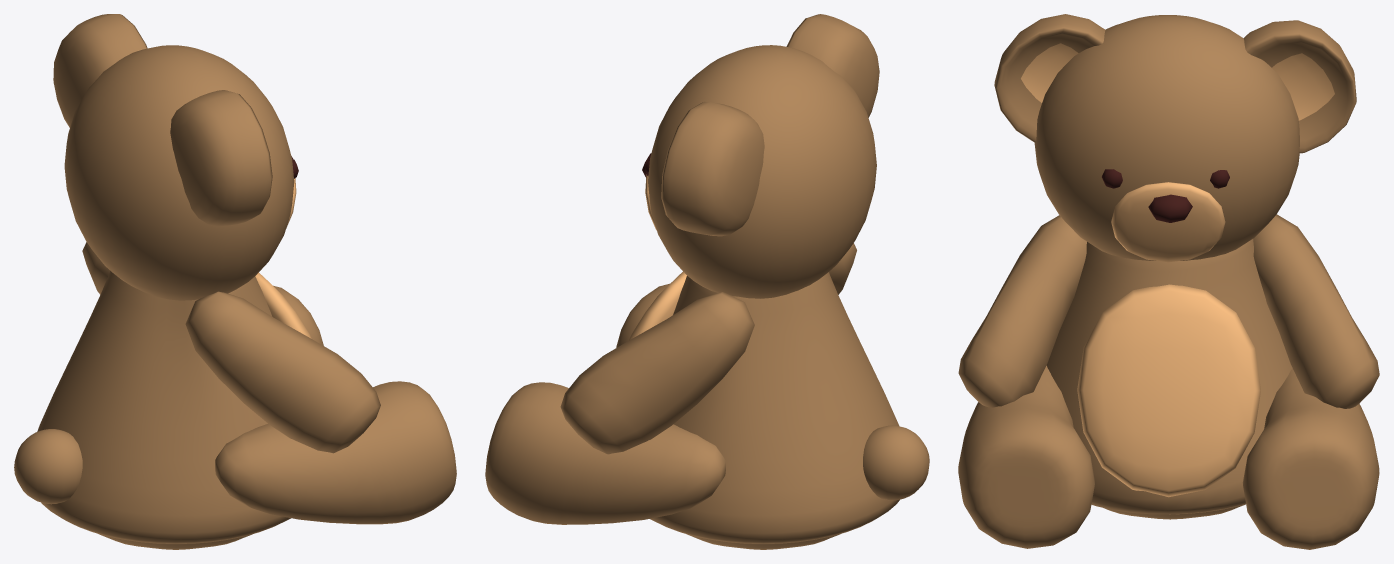
The model's file is teddybear (1).fbx.
3 renders of one model, left to right at view 1: azimuth 30°, elevation 25°; view 2: azimuth 150°, elevation 25°; view 3: azimuth 270°, elevation 25°, orthographic.
Parts seen in each view (by area): view 1: Cylinder.001, Sphere.004, Cube.017, Cube.018, Cube.012, Cube.011, Sphere.005, Cube.019; view 2: Cylinder.001, Sphere.004, Cube.017, Cube.018, Cube.011, Cube.012, Sphere.005, Cube.019; view 3: Sphere.004, Cube.017, Cube.019, Cube.018, Cylinder.001, Cube.011, Cube.012, Cube.015, Cube.016.
Part boxes in pixels (bbox=[...]): Cylinder.001: bbox=[37, 271, 290, 549]; Sphere.004: bbox=[64, 45, 294, 300]; Cube.017: bbox=[215, 285, 456, 524]; Cube.018: bbox=[82, 242, 380, 453]; Cube.012: bbox=[170, 90, 272, 226]; Cube.011: bbox=[53, 14, 147, 127]; Sphere.005: bbox=[14, 429, 82, 504]; Cube.019: bbox=[255, 272, 311, 338]; Cylinder.001: bbox=[650, 272, 899, 549]; Sphere.004: bbox=[648, 45, 876, 298]; Cube.017: bbox=[485, 283, 725, 524]; Cube.018: bbox=[560, 243, 856, 454]; Cube.011: bbox=[661, 101, 764, 236]; Cube.012: bbox=[786, 14, 879, 117]; Sphere.005: bbox=[863, 425, 929, 500]; Cube.019: bbox=[628, 271, 686, 340]; Sphere.004: bbox=[1034, 15, 1299, 260]; Cube.017: bbox=[958, 365, 1379, 549]; Cube.019: bbox=[1077, 284, 1260, 497]; Cube.018: bbox=[958, 214, 1379, 408]; Cylinder.001: bbox=[1046, 239, 1292, 519]; Cube.011: bbox=[1243, 20, 1356, 153]; Cube.012: bbox=[994, 14, 1105, 142]; Cube.015: bbox=[1111, 182, 1225, 262]; Cube.016: bbox=[1148, 194, 1192, 222].
Bounding box in the file's own units: 136 × 167 × 137.
